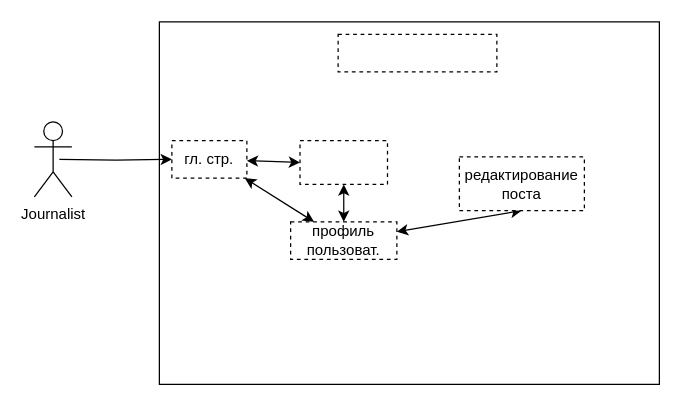
Image size: 681x406. Some labels were removed from this diagram. Here are the shapes that lost their labels. From the top down, the centre of each, then its label:
At point 417,52: "создание поста(header)".
At point 343,161: "пост подробно".
